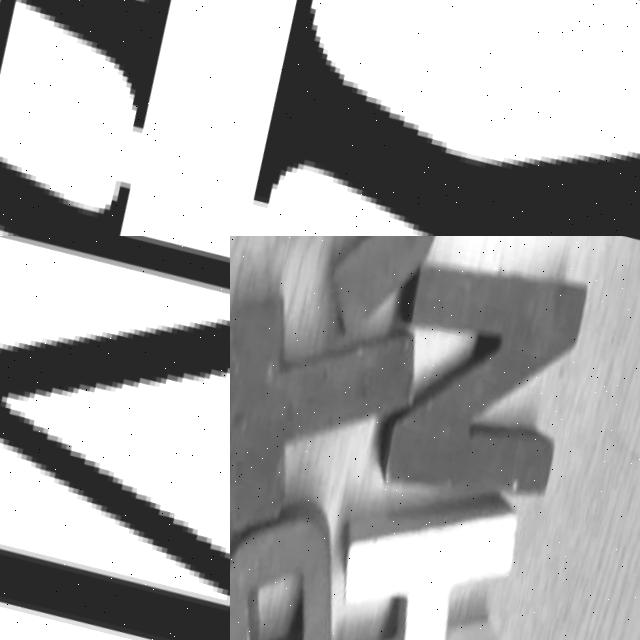H: (265, 472, 543, 640)
M: (0, 236, 230, 640)
N: (333, 236, 617, 537)
Y: (230, 0, 640, 236)
